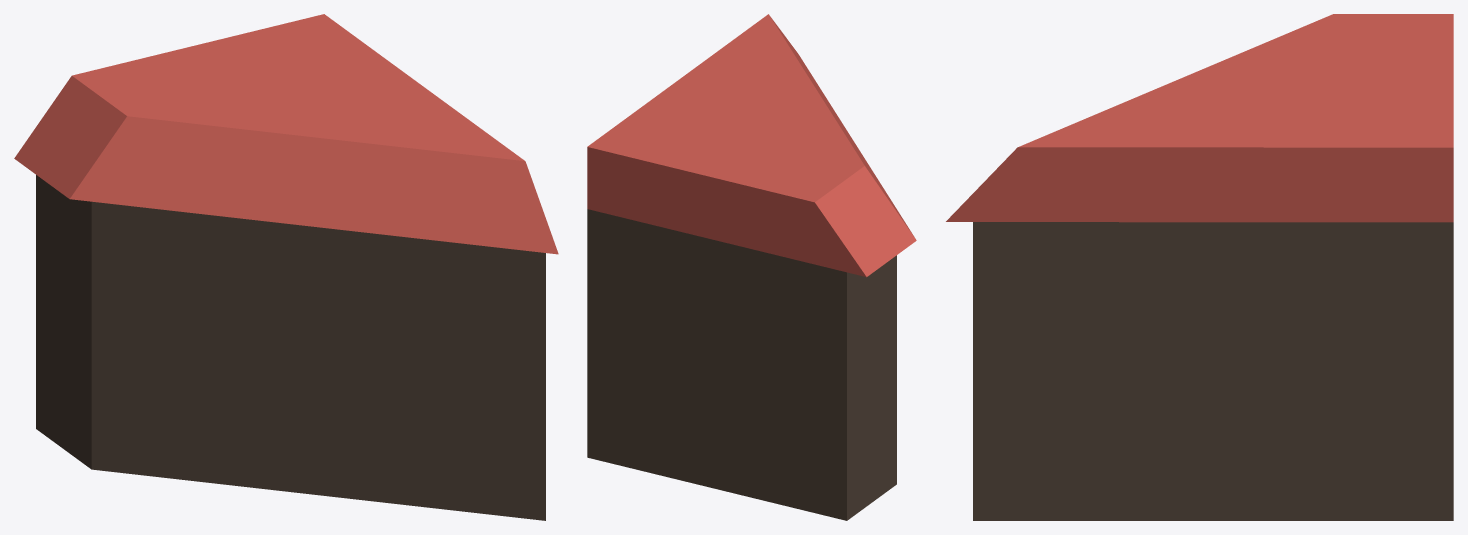
File: Booth Seat End Half.fbx
3 views of the same model, side by side, from view 1: azimuth 30°, elevation 25°; view 2: azimuth 150°, elevation 25°; view 3: azimuth 270°, elevation 25° (orthographic). The views are drawn at different scales.
Visible parts, largest first — view 1: Booth Seat End Half; view 2: Booth Seat End Half; view 3: Booth Seat End Half.
Boxes of the visible parts, x1,y1,x2,y2 form: Booth Seat End Half: (14,14,558,520); Booth Seat End Half: (587,14,916,520); Booth Seat End Half: (946,14,1453,520).
Bounding box in the file's own units: 424 × 555 × 450.
